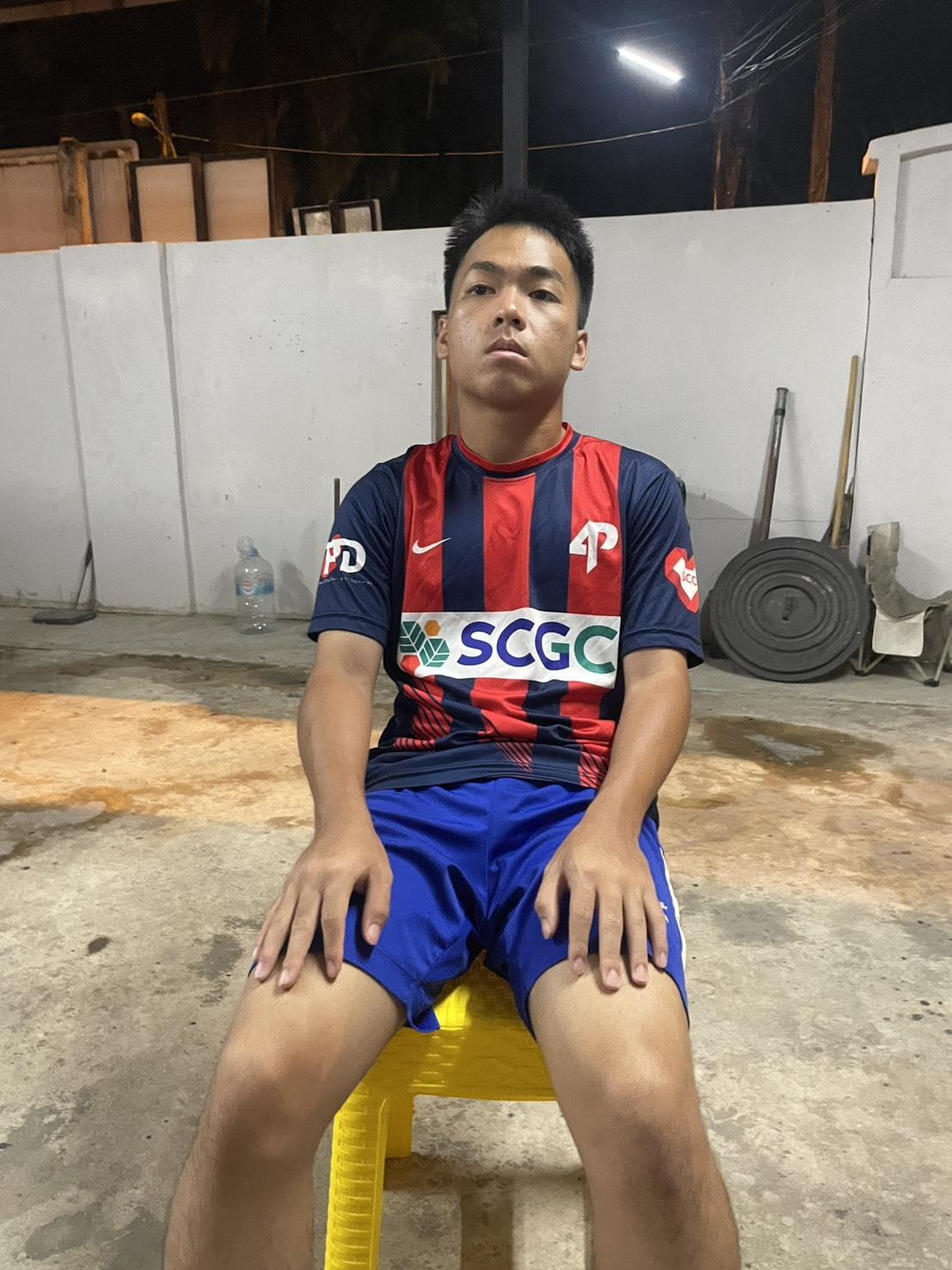BadPosture: (309, 187, 702, 798)
